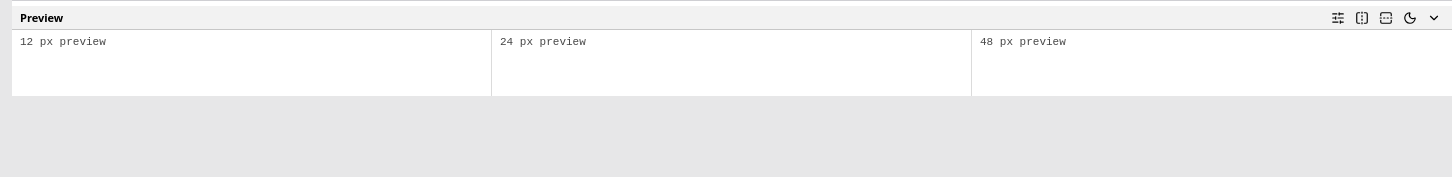
Test case: PreviewStrip › applies custom sizes and preserves rendered sizes after an invalid draft
Click the button named "Preview settings".
click(1338, 18)  # box [1328,8,1348,28]
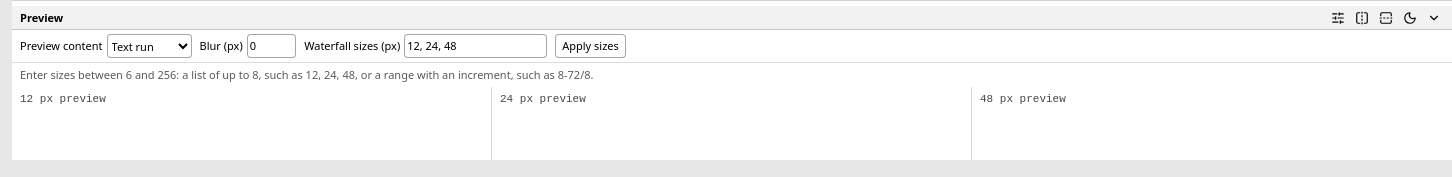
Replace the text in the field labelled "Waterfall sizes (px)" with "18, 72, 128" at (476, 46), box [404,34,547,58]
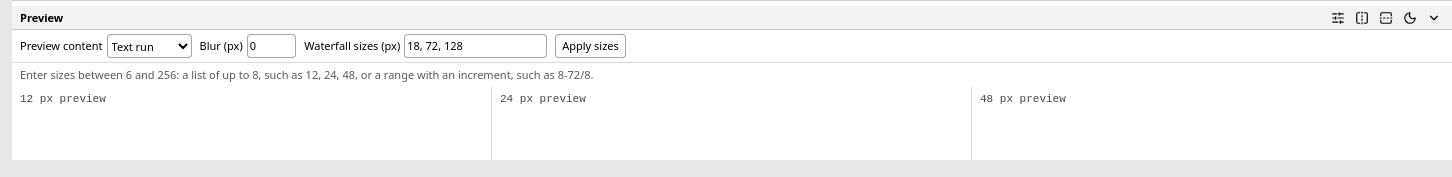
Click the button "Apply sizes".
click(590, 46)  # box [555,34,626,58]
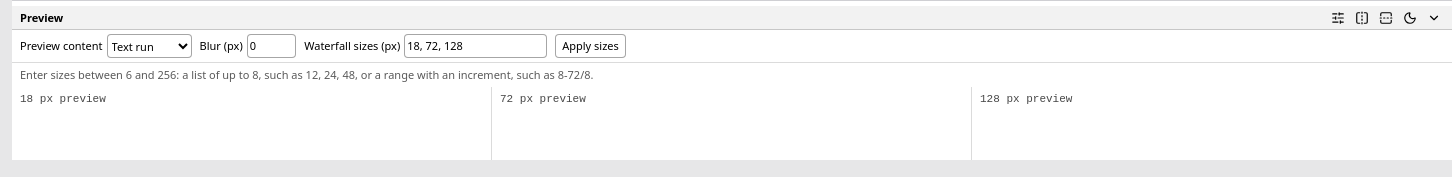
Replace the text in the field labelled "Waterfall sizes (px)" with "12, Infinity" at (476, 46), box [404,34,547,58]
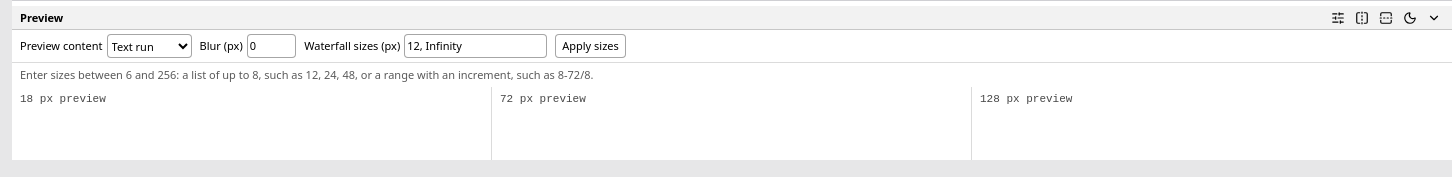
Click the button "Apply sizes".
click(590, 46)  # box [555,34,626,58]
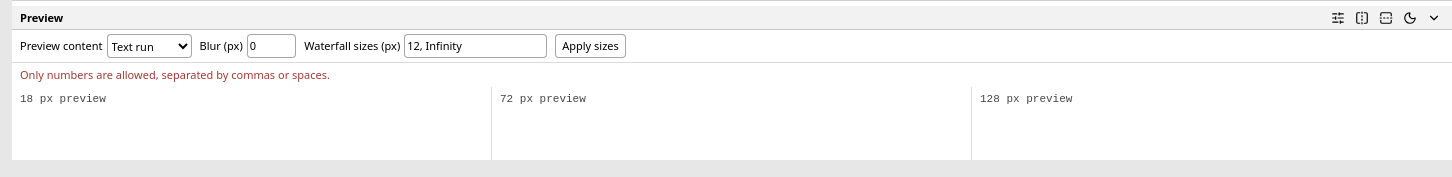
Now the message shows "Only numbers are allowed", box [20,67,330,82]
